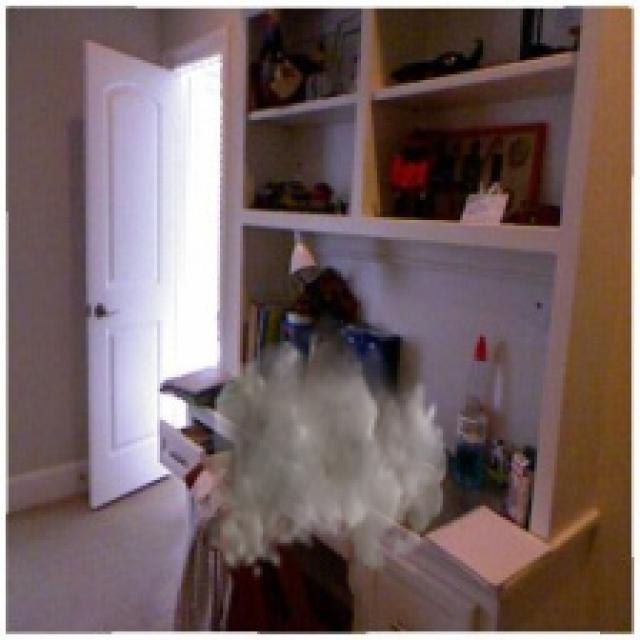smoke: (200, 309, 449, 580)
